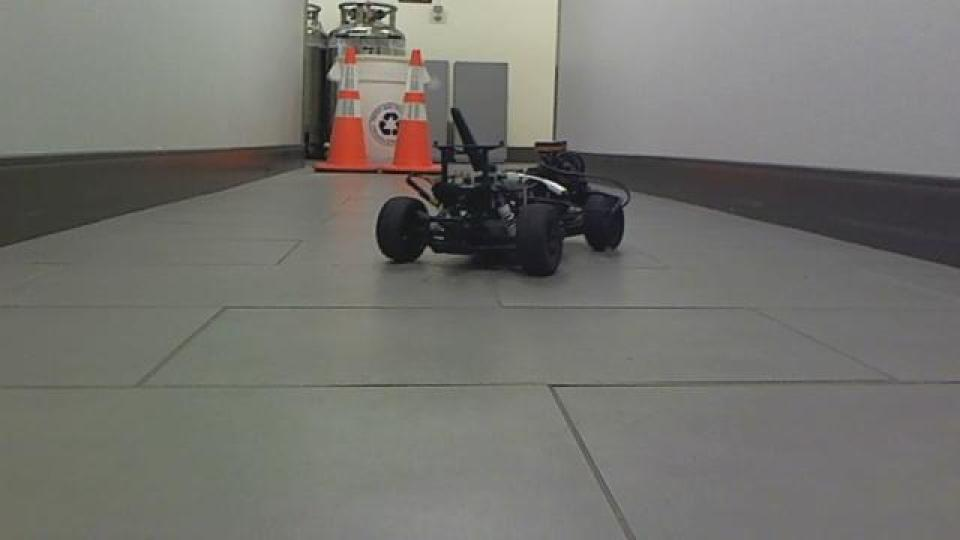car: (372, 105, 632, 279)
